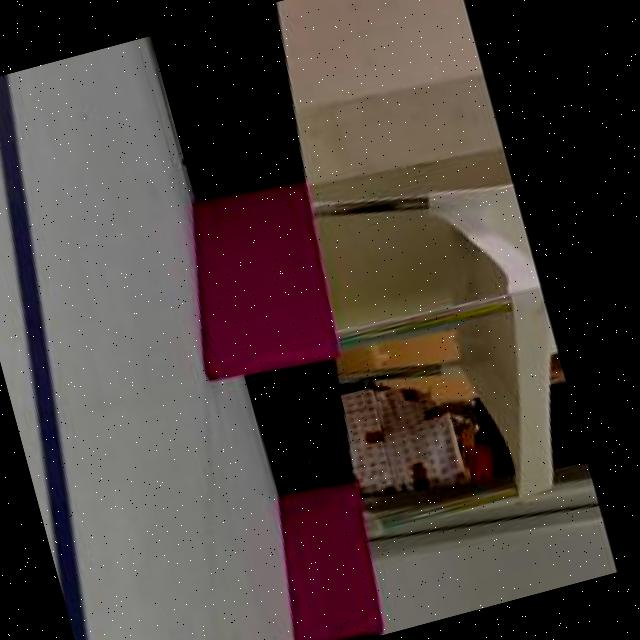xparking: (183, 197, 335, 378), (274, 490, 383, 640)
